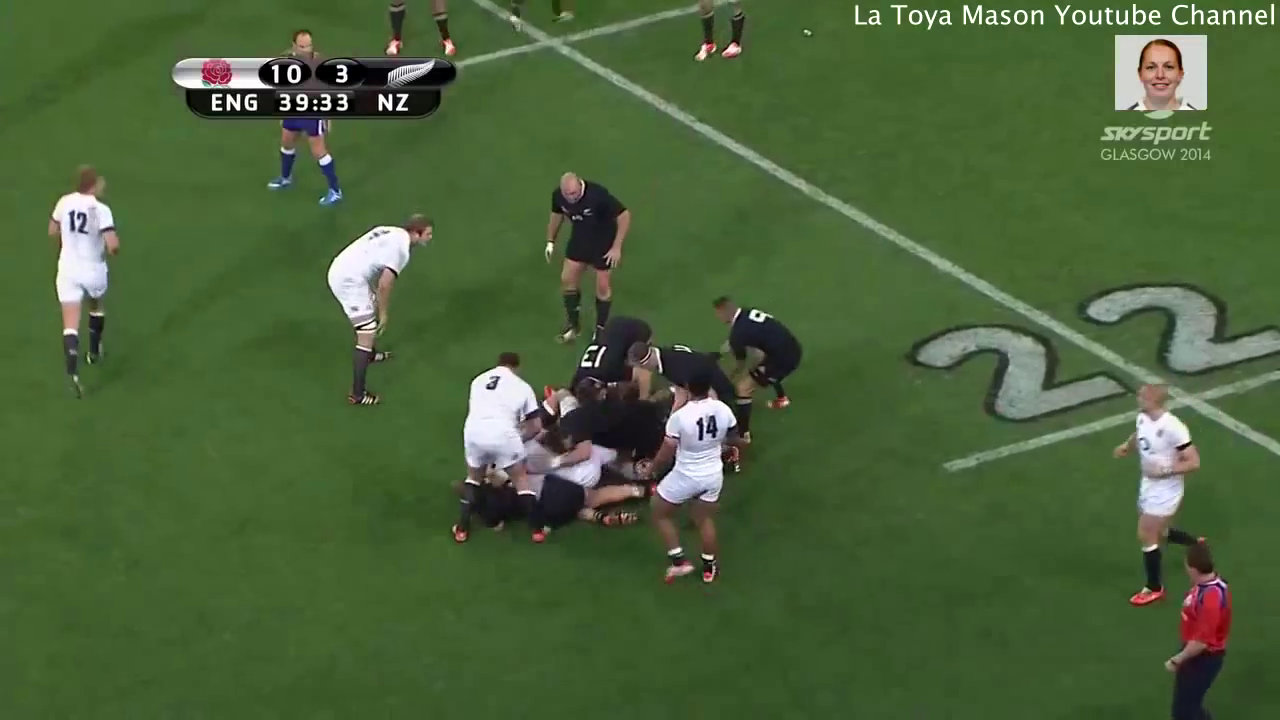player: (321, 208, 446, 410), (1109, 383, 1212, 608), (39, 159, 124, 406), (456, 348, 556, 552), (649, 374, 728, 588), (541, 167, 633, 350), (709, 294, 805, 442), (1162, 536, 1239, 720), (563, 310, 655, 396), (622, 340, 729, 395), (377, 1, 459, 59), (684, 1, 746, 70)
ruck: (435, 313, 805, 557)
